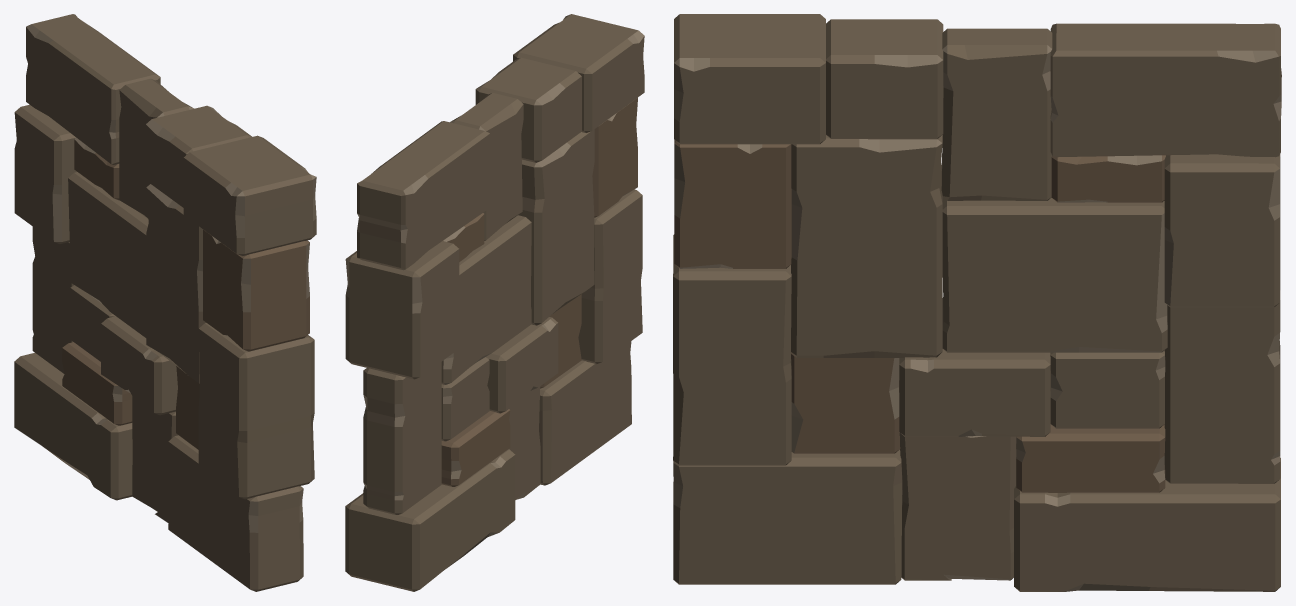
File: chamber_wall_east_0_lev3.glb
3 renders of one model, left to right at view 1: azimuth 30°, elevation 25°; view 2: azimuth 150°, elevation 25°; view 3: azimuth 270°, elevation 25°, orthographic. The views are drawn at different scales.
Visible parts, largest first — view 1: chamber_wall_east_0_lev3; view 2: chamber_wall_east_0_lev3; view 3: chamber_wall_east_0_lev3.
Part boxes in pixels (bbox=[...]): chamber_wall_east_0_lev3: bbox=[14, 14, 316, 591]; chamber_wall_east_0_lev3: bbox=[345, 14, 644, 591]; chamber_wall_east_0_lev3: bbox=[673, 14, 1281, 591].
Bounding box in the file's own units: 1.24 × 5.98 × 6.16.
